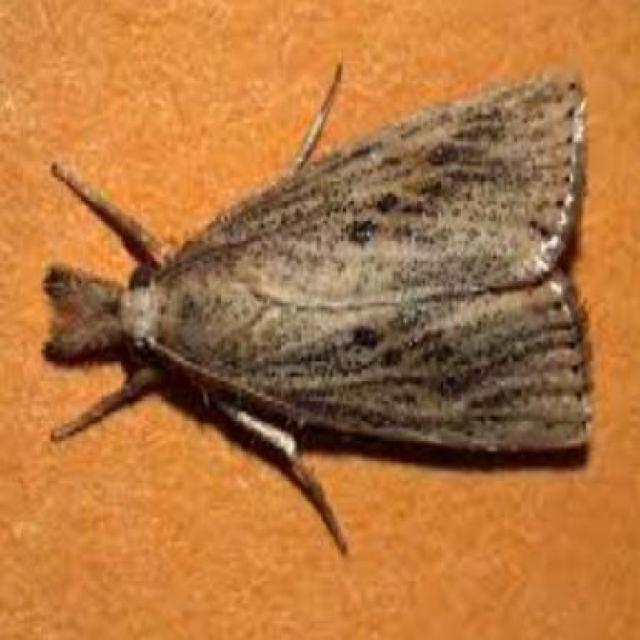stem-borer: (40, 66, 595, 483)
